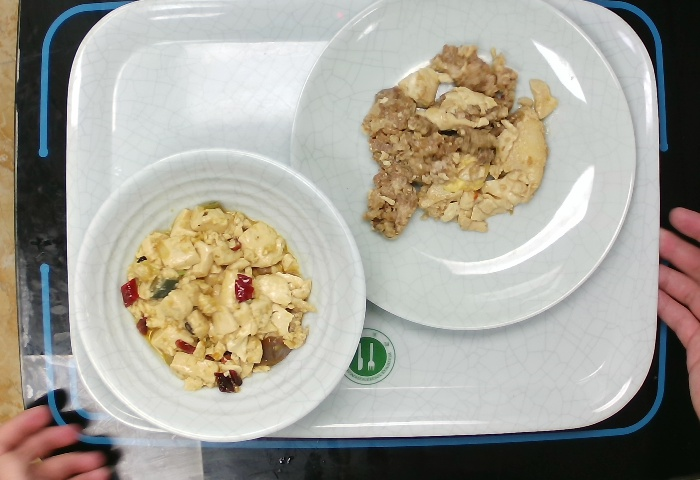JYsf-Da_Yuan_Pan: (288, 1, 641, 333)
JYsf-Xiao_Tang_Wan: (74, 146, 365, 440)
